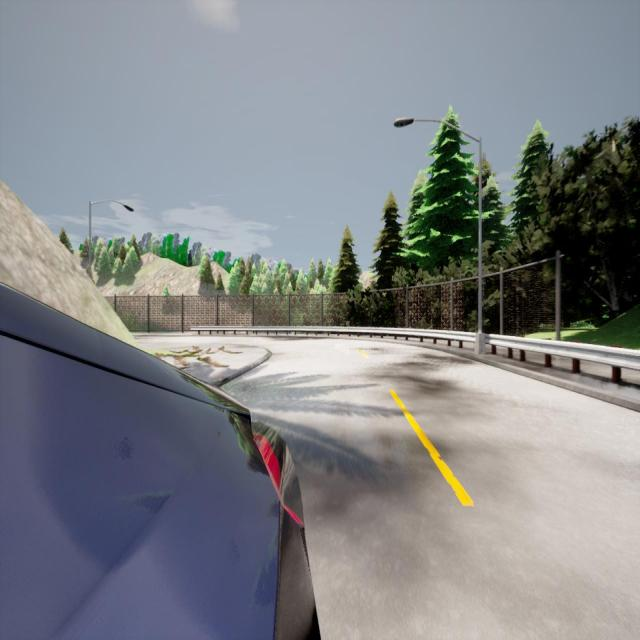Vehicle: (0, 280, 326, 640)
